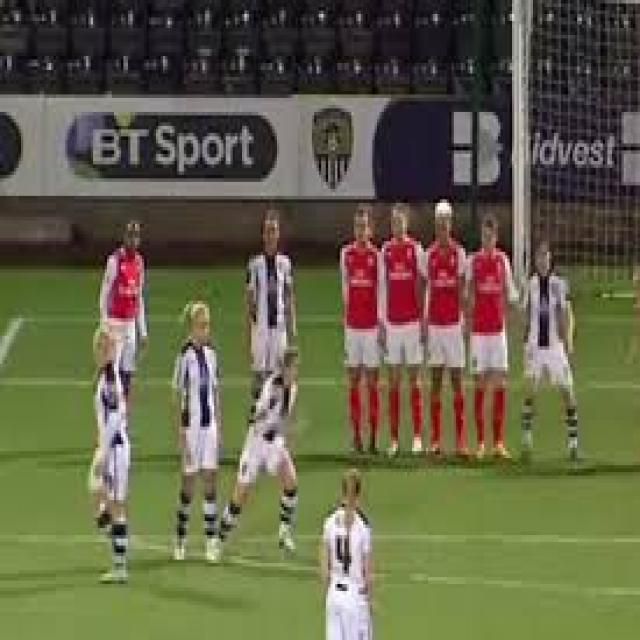free-kick: (331, 196, 520, 463)
